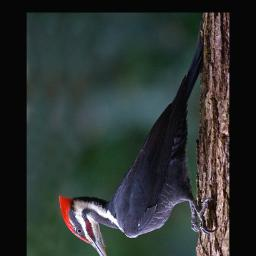Woodpecker: (59, 16, 218, 256)
